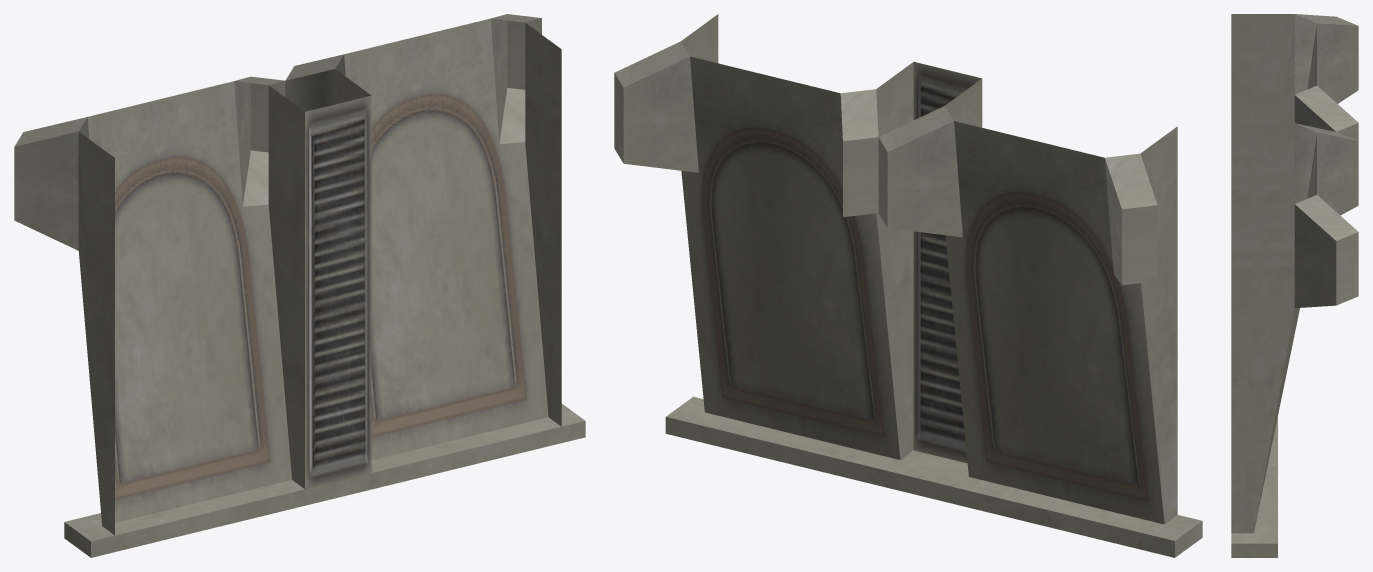
File: ARC1010137.fbx
3 views of the same model, side by side, from view 1: azimuth 30°, elevation 25°; view 2: azimuth 150°, elevation 25°; view 3: azimuth 270°, elevation 25° (orthographic). The views are drawn at different scales.
Visible parts, largest first — view 1: smARC1010137; view 2: smARC1010137; view 3: smARC1010137.
Boxes of the visible parts, x1,y1,x2,y2 form: smARC1010137: (14,14,585,557); smARC1010137: (614,14,1202,557); smARC1010137: (1231,14,1358,557).
Bounding box in the file's own units: 439 × 313 × 105.
Materials: 1 (1 with a texture image).
